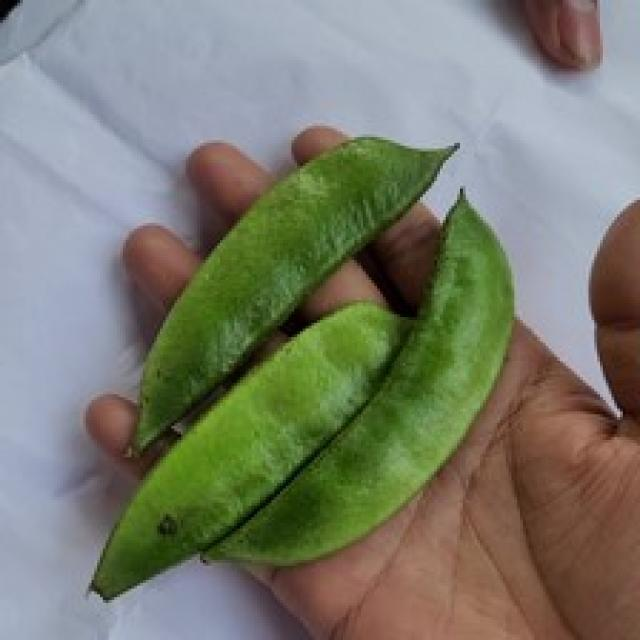Bean: (86, 134, 514, 600)
